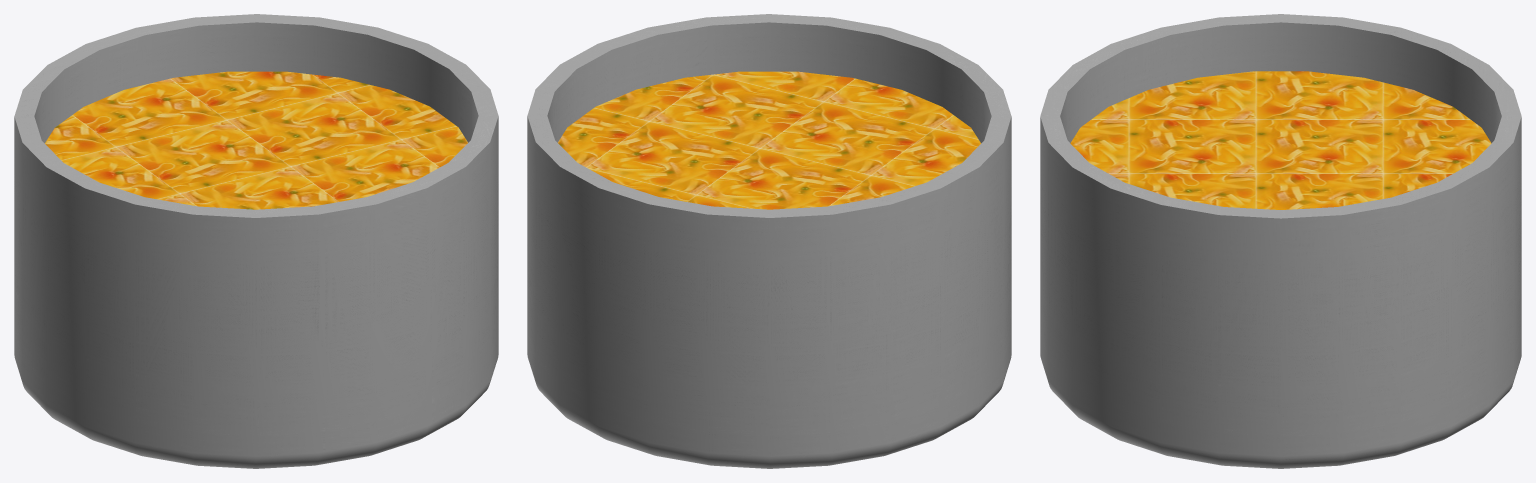
File: space-soup.dae
3 views of the same model, side by side, from view 1: azimuth 30°, elevation 25°; view 2: azimuth 150°, elevation 25°; view 3: azimuth 270°, elevation 25° (orthographic).
Visible parts, largest first — view 1: SketchUp, SketchUp_002; view 2: SketchUp, SketchUp_002; view 3: SketchUp, SketchUp_002.
Part boxes in pixels (<box>): SketchUp: <box>14,14,498,468</box>; SketchUp_002: <box>45,71,467,209</box>; SketchUp: <box>527,14,1011,468</box>; SketchUp_002: <box>558,71,980,209</box>; SketchUp: <box>1040,14,1521,468</box>; SketchUp_002: <box>1070,71,1491,209</box>.
Size of the model in its own units: 0.6442 by 0.6408 by 0.3819.
2 materials, 2 textured.
